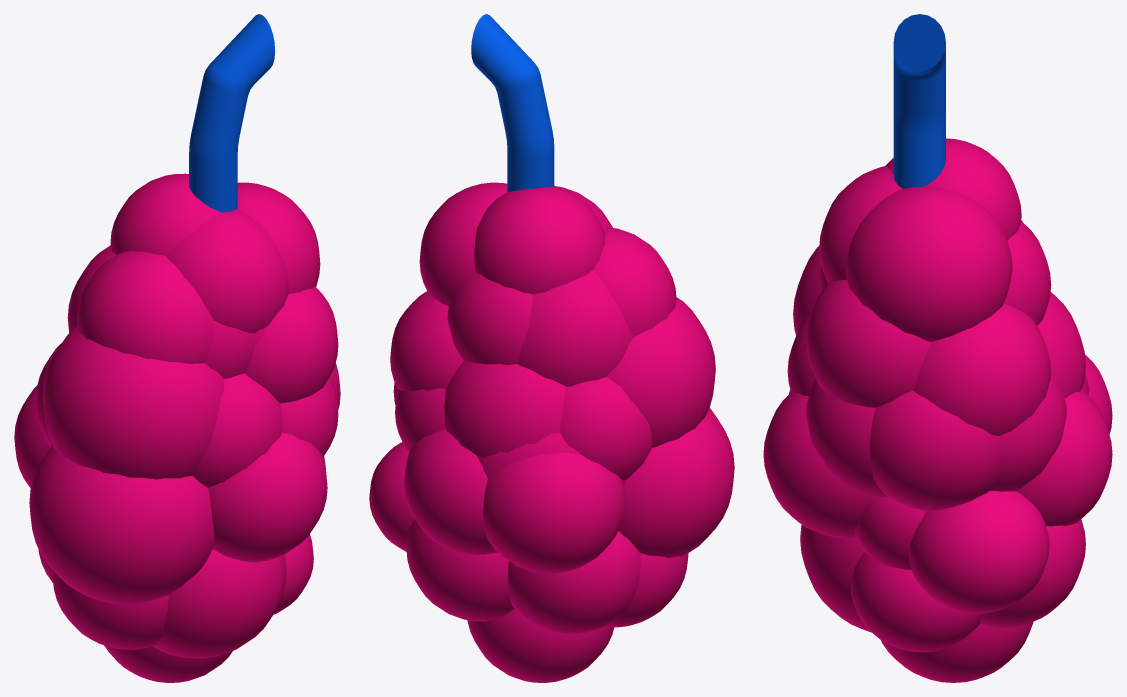
File: Grape substance.fbx
3 views of the same model, side by side, from view 1: azimuth 30°, elevation 25°; view 2: azimuth 150°, elevation 25°; view 3: azimuth 270°, elevation 25° (orthographic). The views are drawn at different scales.
Visible parts, largest first — view 1: pSphere35, pCylinder1; view 2: pSphere35, pCylinder1; view 3: pSphere35, pCylinder1.
Part boxes in pixels (left/top/right/bottom): pSphere35: left=14, top=173, right=340, bottom=682; pCylinder1: left=189, top=14, right=274, bottom=212; pSphere35: left=369, top=182, right=734, bottom=682; pCylinder1: left=471, top=14, right=554, bottom=192; pSphere35: left=763, top=138, right=1112, bottom=682; pCylinder1: left=893, top=14, right=945, bottom=188.
Bounding box in the file's own units: 4.67 × 9.21 × 4.15.
